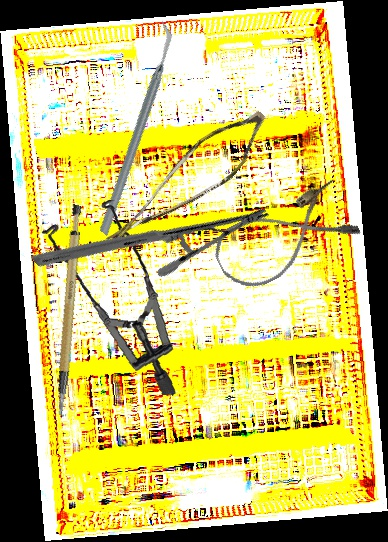Cannula: (206, 176, 363, 299)
Chopper: (29, 19, 241, 238)
Micro Scissor: (103, 86, 276, 280)
Needle Holder: (30, 120, 272, 354)
Scalpel Handle: (23, 203, 111, 416)
Speculum: (25, 193, 195, 396)
